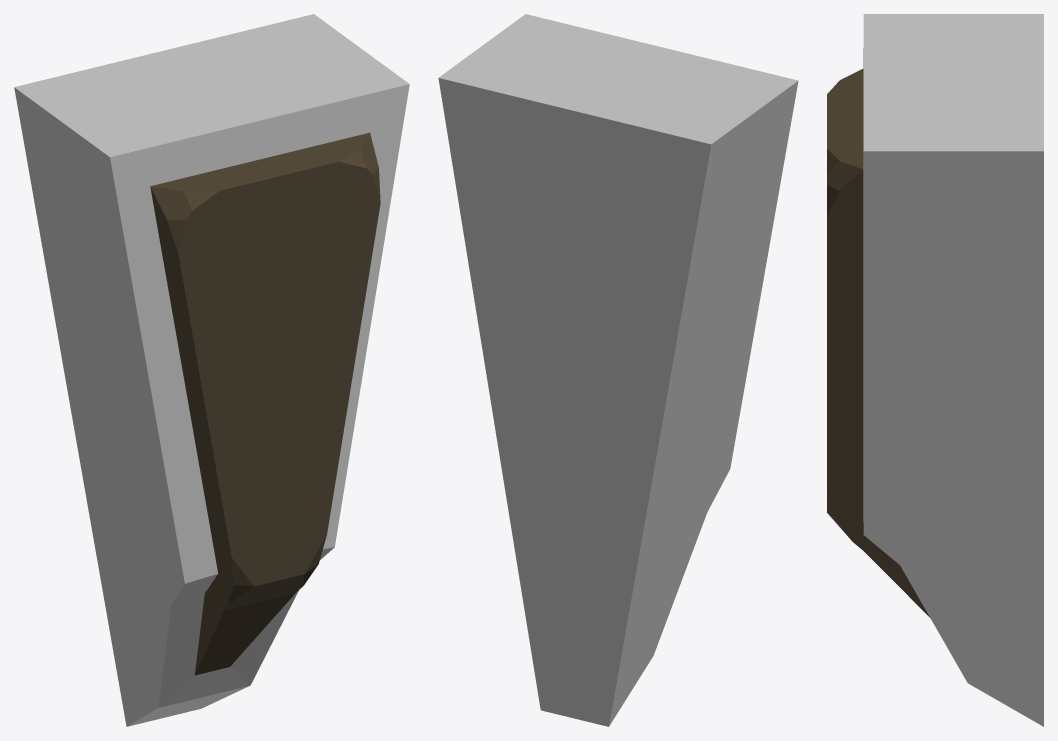
The model's file is EVT_ADDON_NW_TROLLPORTAL_PORTAL_02.OBJ.
3 views of the same model, side by side, from view 1: azimuth 30°, elevation 25°; view 2: azimuth 150°, elevation 25°; view 3: azimuth 270°, elevation 25° (orthographic). The views are drawn at different scales.
Visible parts, largest first — view 1: EVT_ADDON_NW_TROLLPORTAL_PORTAL_02; view 2: EVT_ADDON_NW_TROLLPORTAL_PORTAL_02; view 3: EVT_ADDON_NW_TROLLPORTAL_PORTAL_02.
Boxes of the visible parts, <box> form: EVT_ADDON_NW_TROLLPORTAL_PORTAL_02: <box>14,14,409,726</box>; EVT_ADDON_NW_TROLLPORTAL_PORTAL_02: <box>438,14,798,726</box>; EVT_ADDON_NW_TROLLPORTAL_PORTAL_02: <box>827,14,1043,726</box>.
Size of the model in its own units: 0.8939 by 1.9 by 0.5959.
